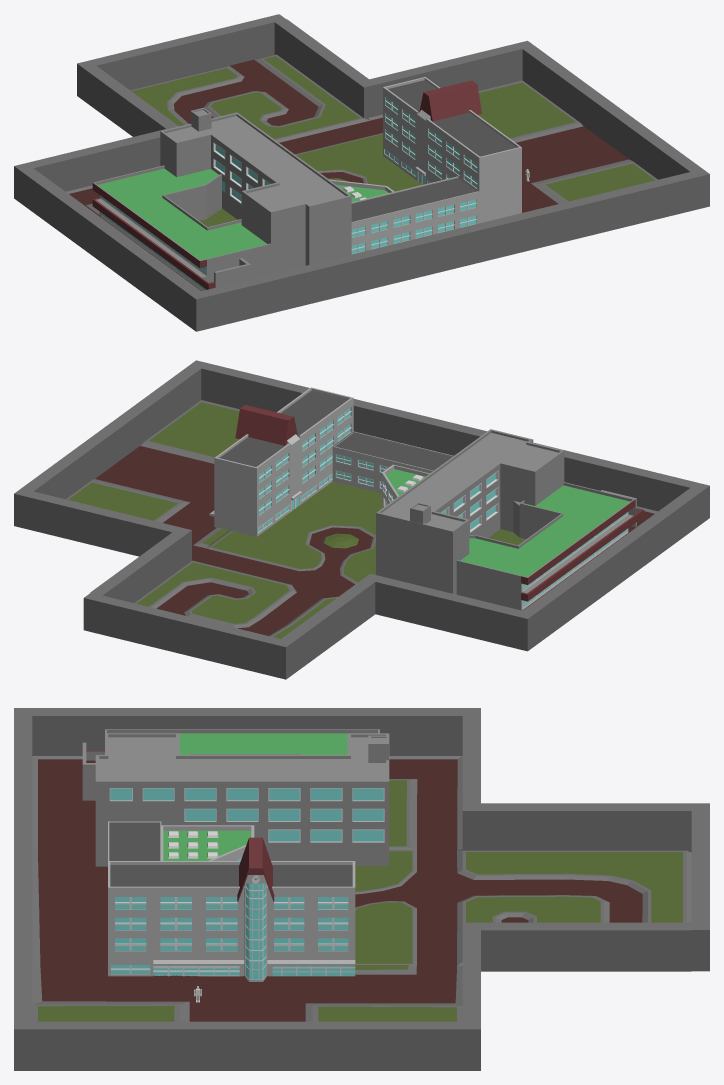
The model's file is School2.fbx.
The picture shows the model from 3 angles, top to bottom: view 1: azimuth 30°, elevation 25°; view 2: azimuth 150°, elevation 25°; view 3: azimuth 270°, elevation 25°; orthographic projection. The views are drawn at different scales.
Visible parts, largest first — view 1: wall6, School building2, school building5, School building1, Ground2, Ground3, wall5, wall1, wall2, wall4, wall3, School building3 (+3 smaller); view 2: School building2, School building1, school building5, Ground3, wall6, Ground2, Ground1, wall4, wall1, wall5, wall3, wall2 (+3 smaller); view 3: School building1, School building2, wall2, Ground2, Ground3, wall5, wall4, Ground5, wall1, Ground4, Ground1, wall6 (+4 smaller).
Boxes of the visible parts, <box> form: wall6: <box>202,172,697,328</box>; School building2: <box>160,107,351,273</box>; school building5: <box>92,165,270,290</box>; School building1: <box>383,77,521,223</box>; Ground2: <box>130,54,382,154</box>; Ground3: <box>367,80,657,212</box>; wall5: <box>14,163,208,331</box>; wall1: <box>274,19,522,118</box>; wall2: <box>515,40,709,209</box>; wall4: <box>27,65,178,191</box>; wall3: <box>77,14,285,100</box>; School building3: <box>351,176,479,254</box>; School building2: <box>376,429,564,594</box>; School building1: <box>209,387,353,536</box>; school building5: <box>456,482,643,610</box>; Ground3: <box>66,400,239,558</box>; wall6: <box>201,363,696,511</box>; Ground2: <box>134,548,354,638</box>; Ground1: <box>206,481,383,584</box>; wall4: <box>281,573,521,673</box>; wall1: <box>26,491,191,602</box>; wall5: <box>515,482,709,651</box>; wall3: <box>83,593,293,679</box>; wall2: <box>14,360,207,528</box>; School building1: <box>108,837,355,981</box>; School building2: <box>95,733,389,866</box>; wall2: <box>14,1021,480,1070</box>; Ground2: <box>417,850,691,966</box>; Ground3: <box>32,965,462,1021</box>; wall5: <box>14,708,480,755</box>; wall4: <box>462,716,691,852</box>; Ground5: <box>32,756,462,850</box>; wall1: <box>462,922,691,1021</box>; Ground4: <box>32,849,107,966</box>; Ground1: <box>355,850,416,966</box>; wall6: <box>14,716,32,1021</box>.
Bounding box in the file's own units: 8300 × 1419 × 7600.
